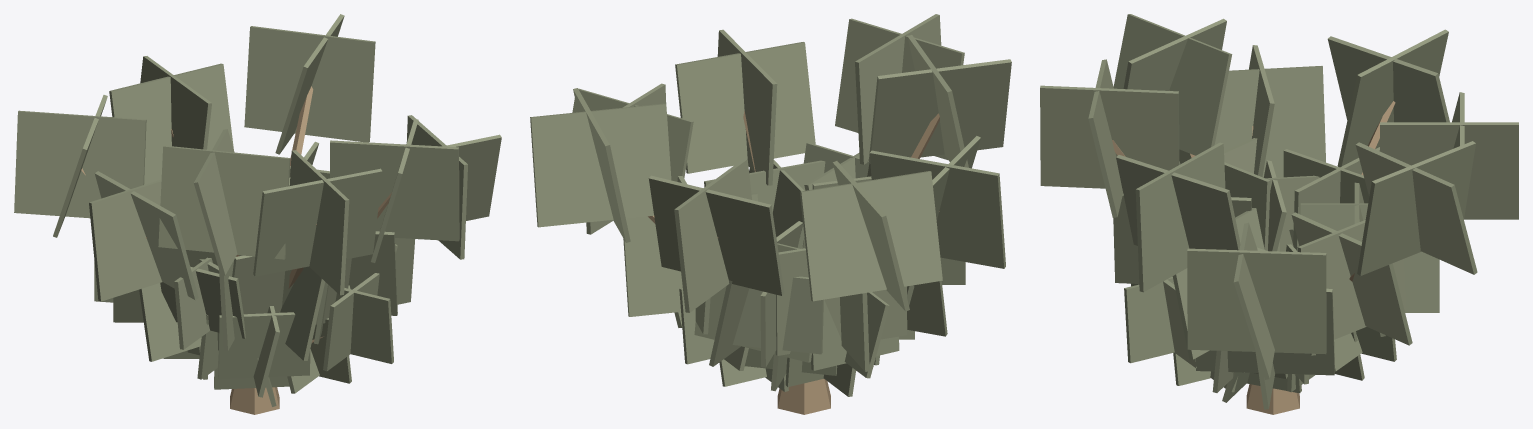
Rendered from bush.glb.
The picture shows the model from 3 angles, left to right: view 1: azimuth 30°, elevation 25°; view 2: azimuth 150°, elevation 25°; view 3: azimuth 270°, elevation 25°; orthographic projection. The views are drawn at different scales.
Visible parts, largest first — view 1: NC_bush; view 2: NC_bush; view 3: NC_bush.
Part boxes in pixels (box(x1,y1,x2,y2)): NC_bush: box(14, 14, 501, 414); NC_bush: box(530, 14, 1011, 414); NC_bush: box(1040, 14, 1518, 414).
Size of the model in its own units: 1.22 by 0.8719 by 1.17.
